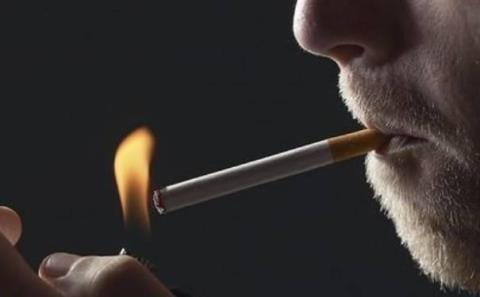smoke: (153, 127, 385, 215)
